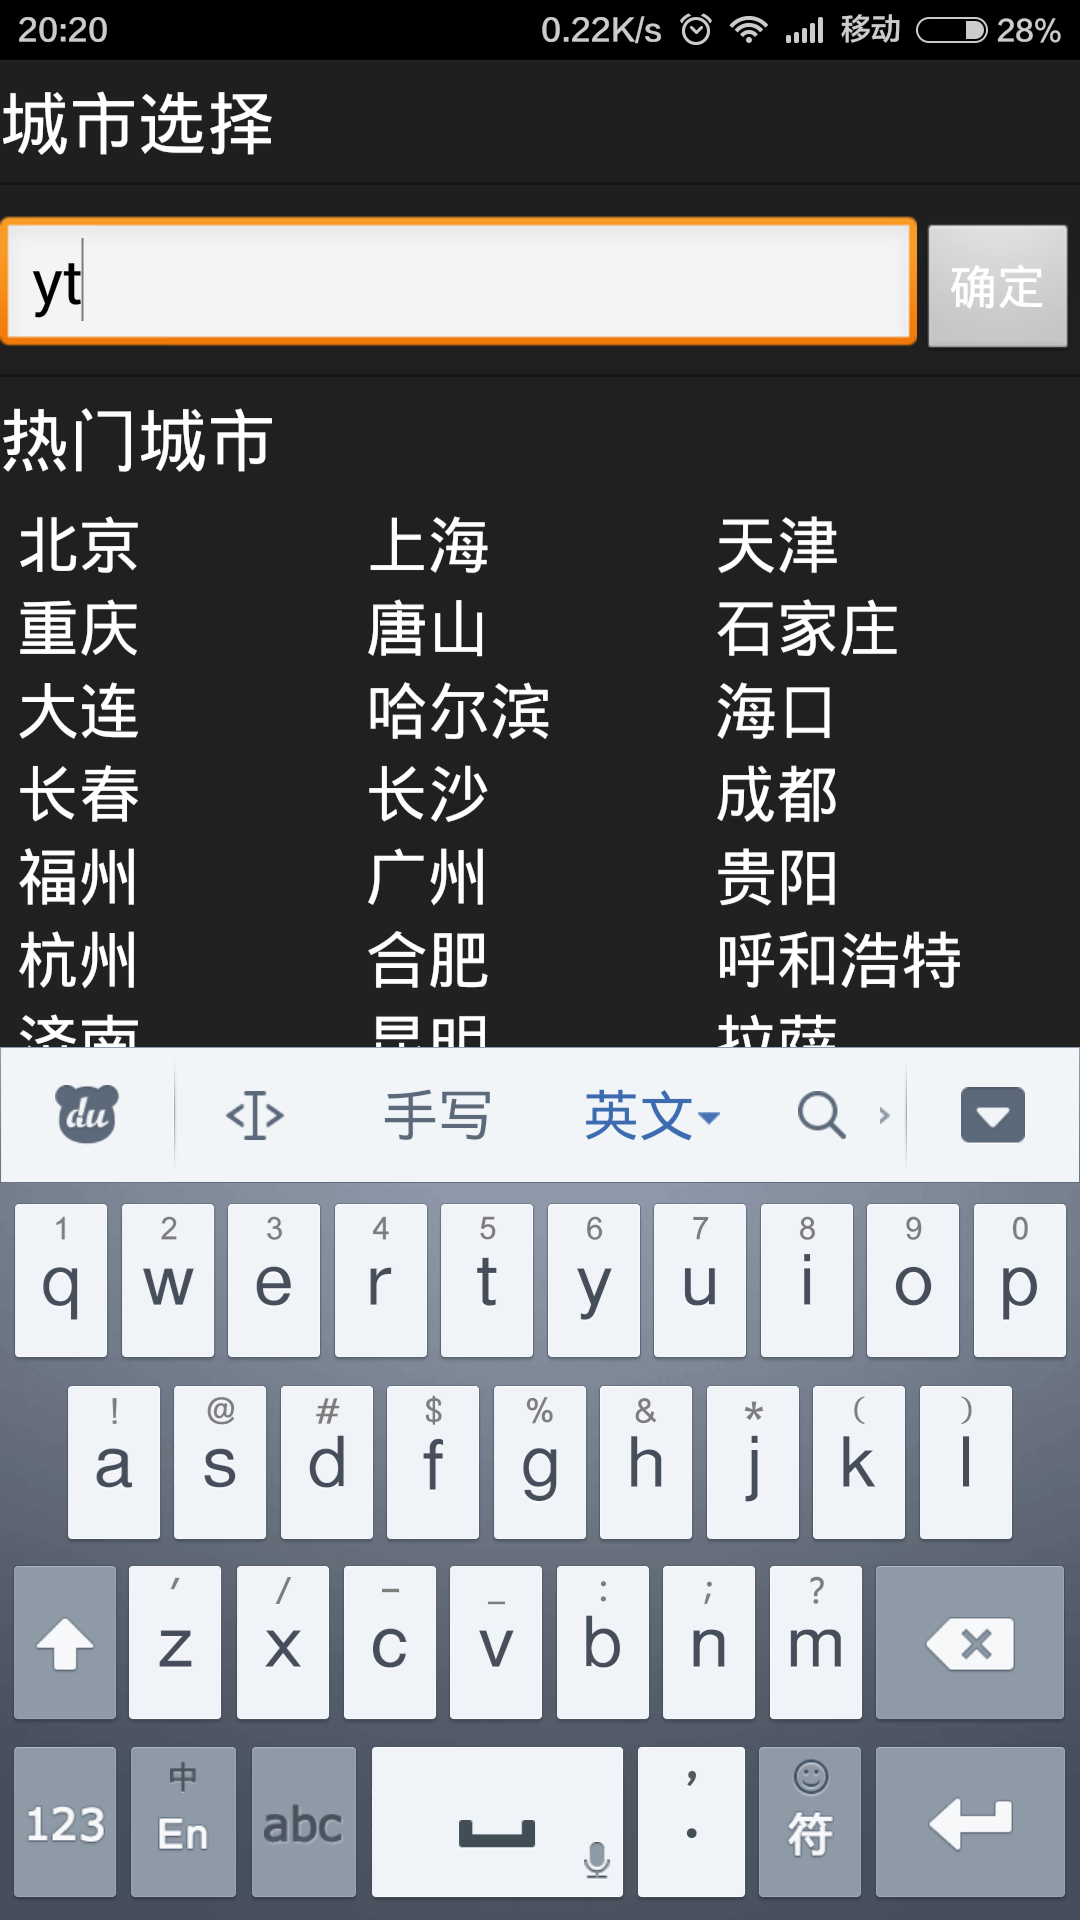button: (927, 218, 1080, 364)
textview: (15, 220, 913, 1018)
